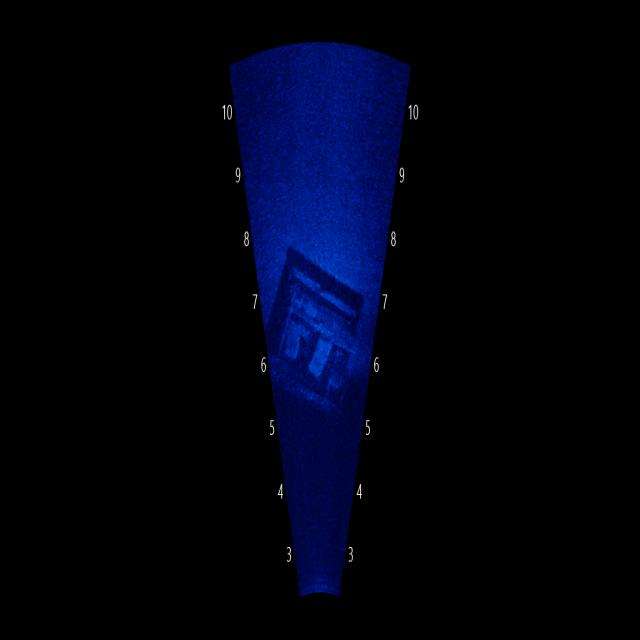square: (258, 233, 371, 425)
